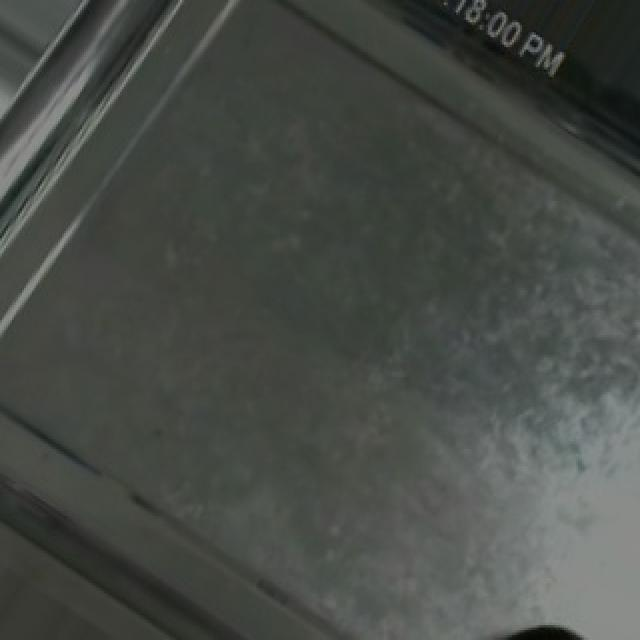Fruit: (466, 610, 612, 640)
